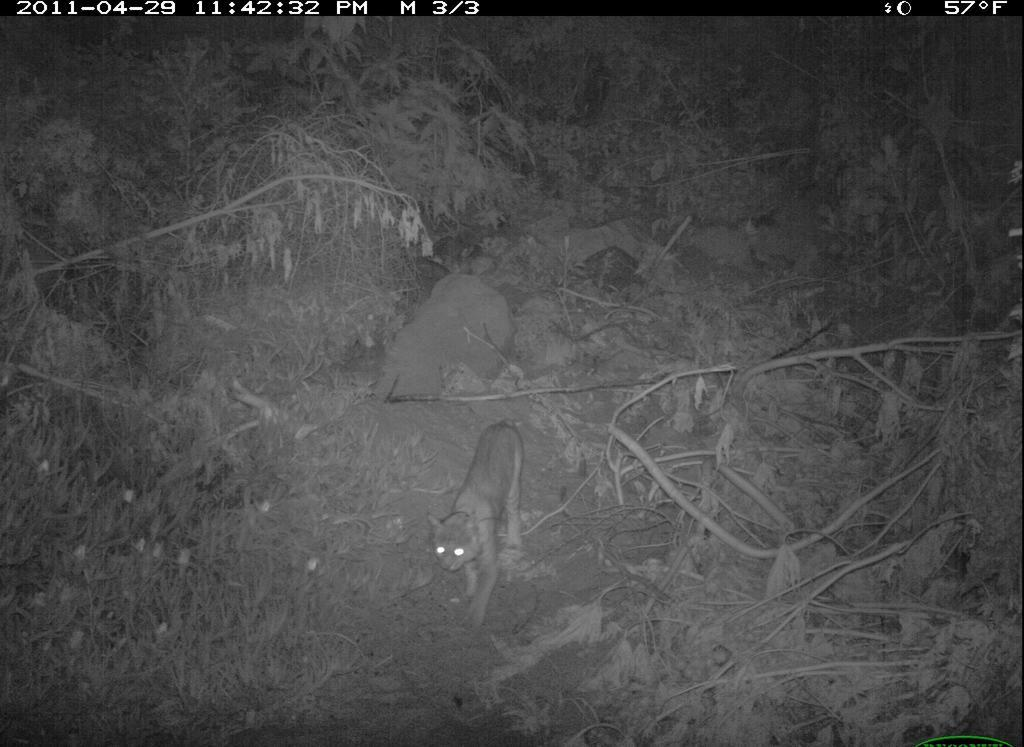bobcat: (422, 413, 537, 641)
